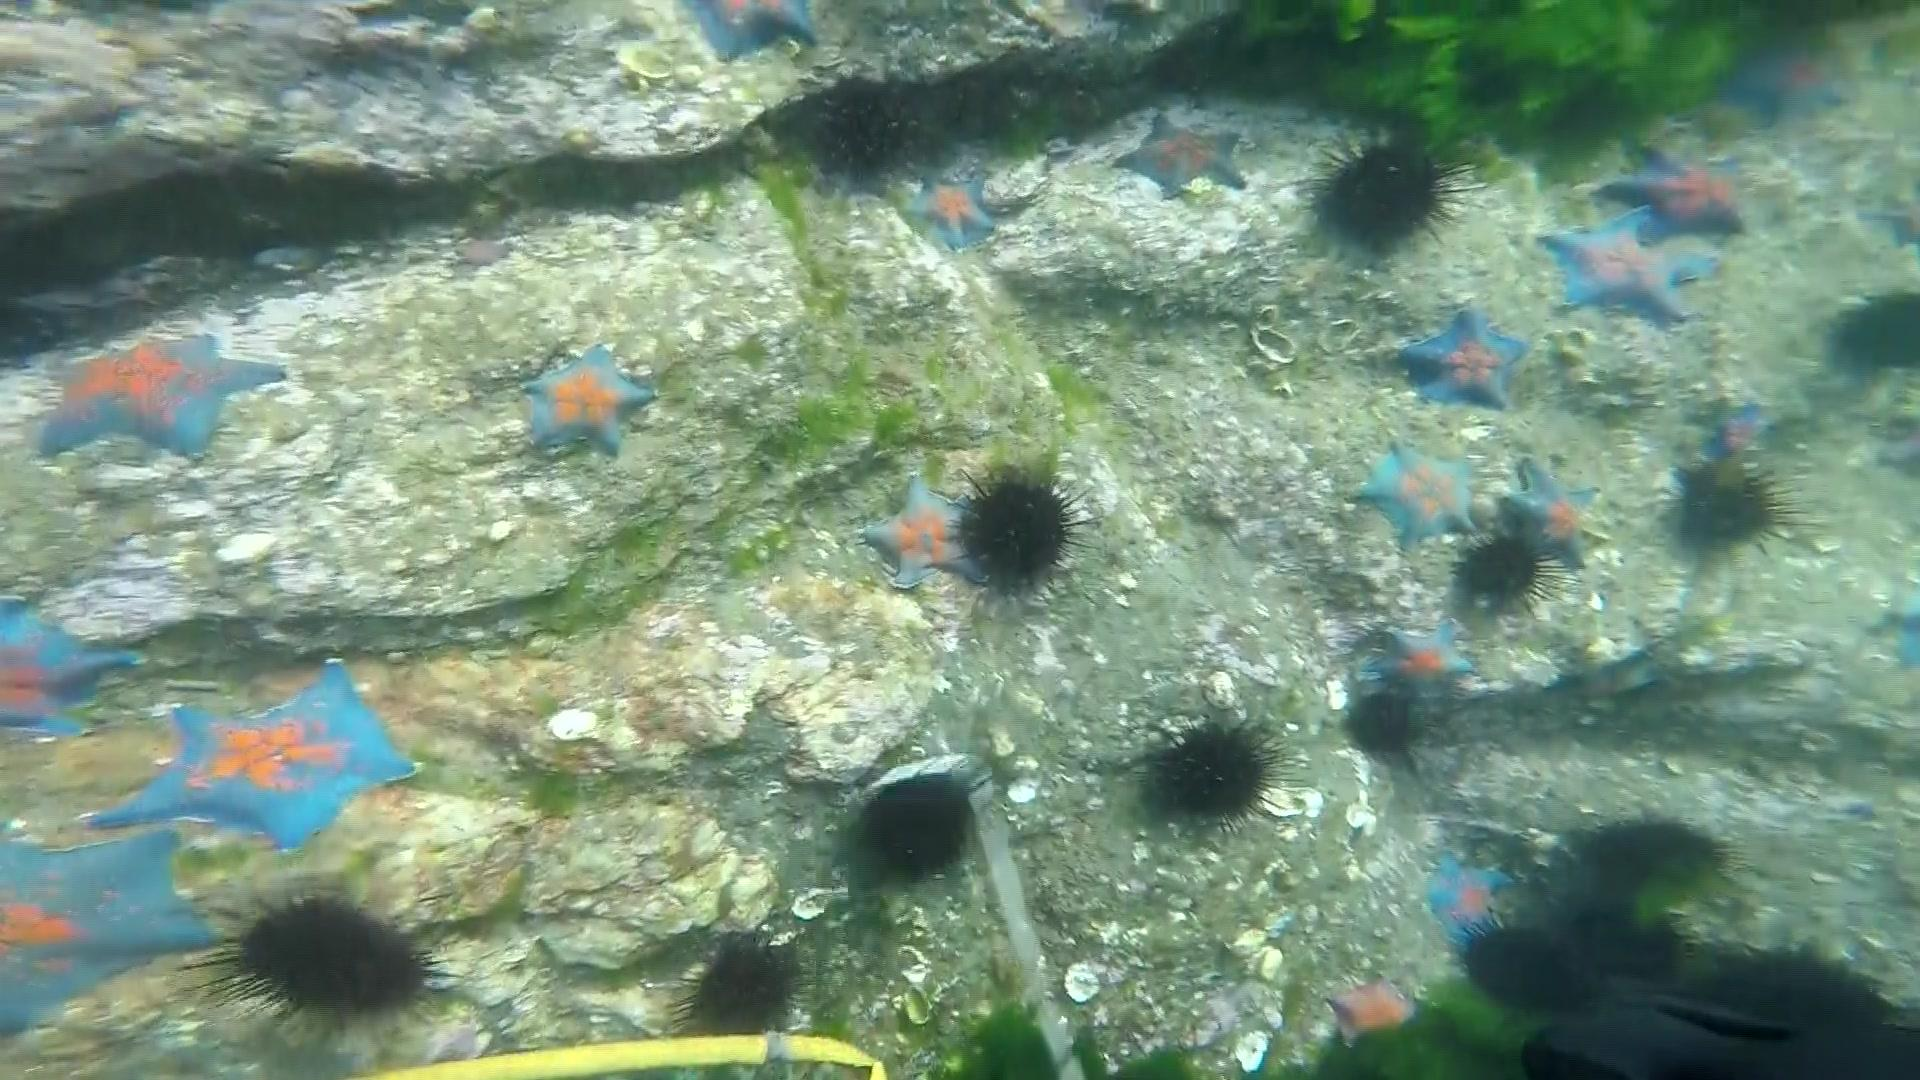echinus: (169, 889, 469, 1044), (1291, 129, 1490, 256), (934, 464, 1112, 593), (1127, 709, 1308, 833), (1667, 444, 1826, 559), (663, 928, 825, 1040), (1449, 909, 1604, 1019), (1577, 811, 1739, 907), (1445, 524, 1577, 621), (858, 779, 978, 885), (818, 88, 918, 179), (1575, 909, 1697, 982), (1829, 286, 1920, 384), (1349, 690, 1420, 761)
starfish: (78, 653, 436, 862), (1, 808, 233, 1044), (30, 328, 293, 462), (1, 587, 142, 748), (1538, 200, 1712, 328), (512, 334, 662, 462), (858, 465, 1005, 596), (1589, 136, 1760, 243), (1396, 301, 1531, 418), (1491, 448, 1607, 578), (1354, 436, 1484, 545), (1106, 111, 1255, 200), (1713, 44, 1855, 137), (1367, 616, 1482, 717), (676, 1, 825, 69), (1422, 851, 1516, 949), (901, 166, 1004, 255), (1321, 975, 1425, 1054)
